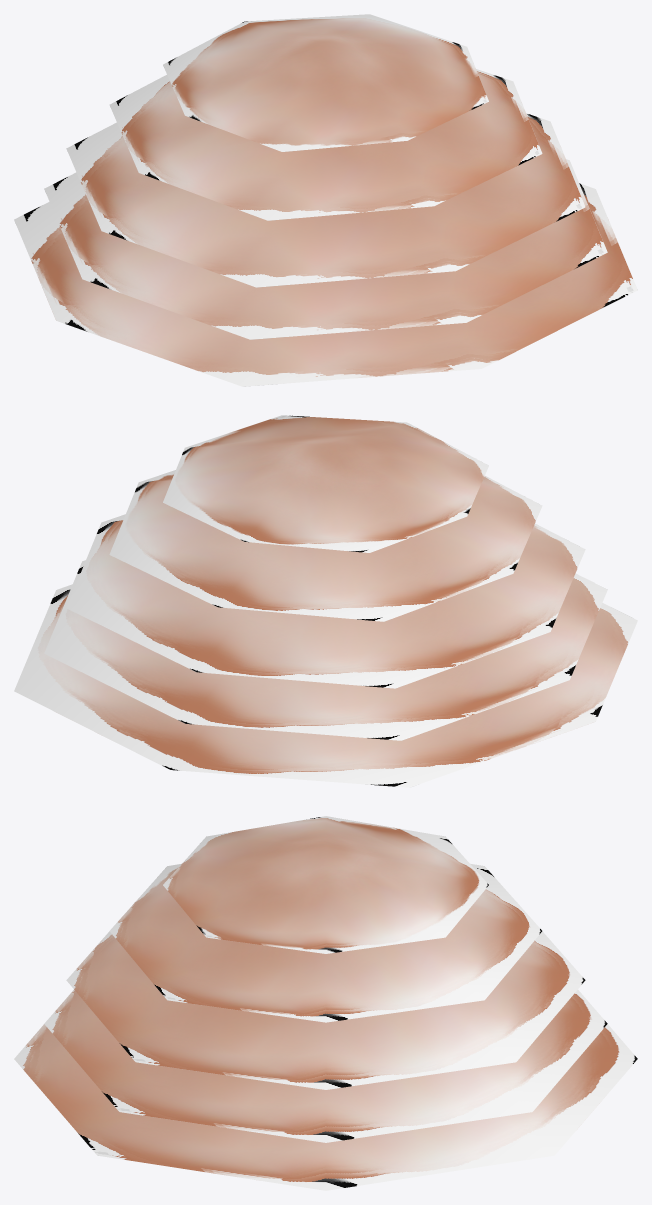
File: Fluff.fbx
The picture shows the model from 3 angles, top to bottom: view 1: azimuth 30°, elevation 25°; view 2: azimuth 150°, elevation 25°; view 3: azimuth 270°, elevation 25°; orthographic projection.
Visible parts, largest first — view 1: Fluff3, Fluff5, Fluff1, Fluff4, Fluff2; view 2: Fluff3, Fluff5, Fluff1, Fluff4, Fluff2; view 3: Fluff3, Fluff5, Fluff1, Fluff4, Fluff2.
Boxes of the visible parts, x1,y1,x2,y2 form: Fluff3: (66,113,585,287); Fluff5: (163,14,488,151); Fluff1: (14,183,637,386); Fluff4: (109,69,542,220); Fluff2: (44,159,607,339); Fluff3: (66,514,585,688); Fluff5: (163,415,488,552); Fluff1: (14,584,637,787); Fluff4: (109,470,542,621); Fluff2: (44,560,607,740); Fluff3: (66,902,585,1089); Fluff5: (163,816,488,953); Fluff1: (14,990,637,1190); Fluff4: (109,863,542,1022); Fluff2: (44,990,607,1142).
Size of the model in its own units: 183 by 68.56 by 183.
